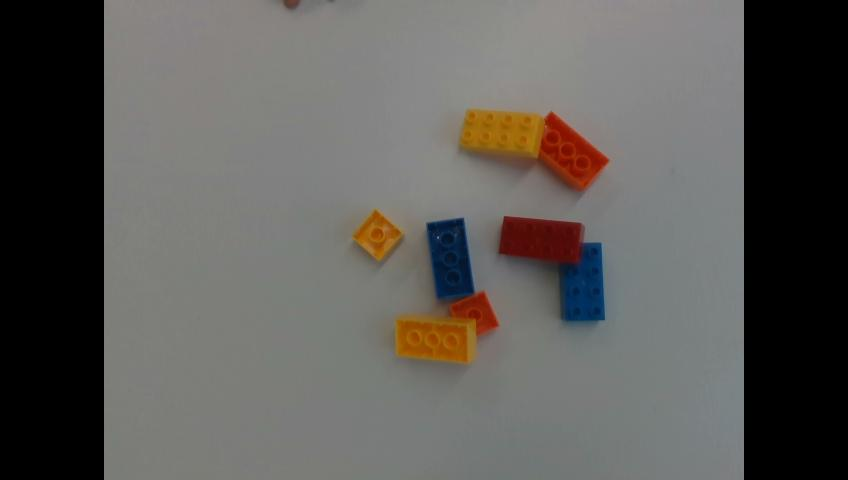2x2_orange: (450, 290, 499, 333)
2x2_yellow: (353, 210, 402, 258)
4x2_blue: (428, 215, 473, 299), (561, 241, 603, 320)
4x2_orange: (539, 111, 608, 188)
4x2_red: (501, 215, 583, 260)
4x2_yellow: (460, 107, 543, 155), (396, 315, 475, 362)
